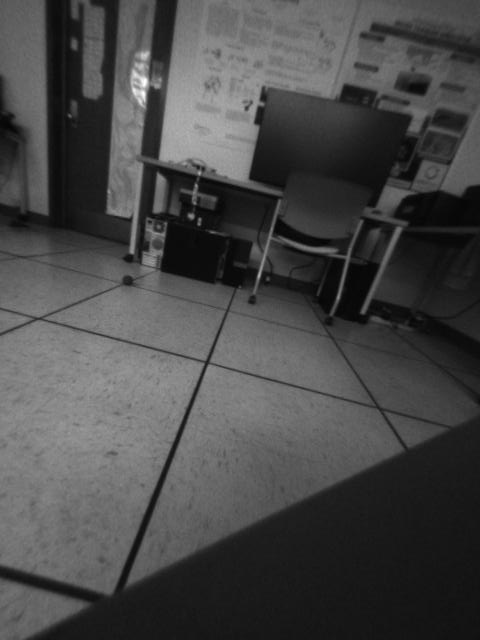dogtoy: (116, 267, 143, 290)
